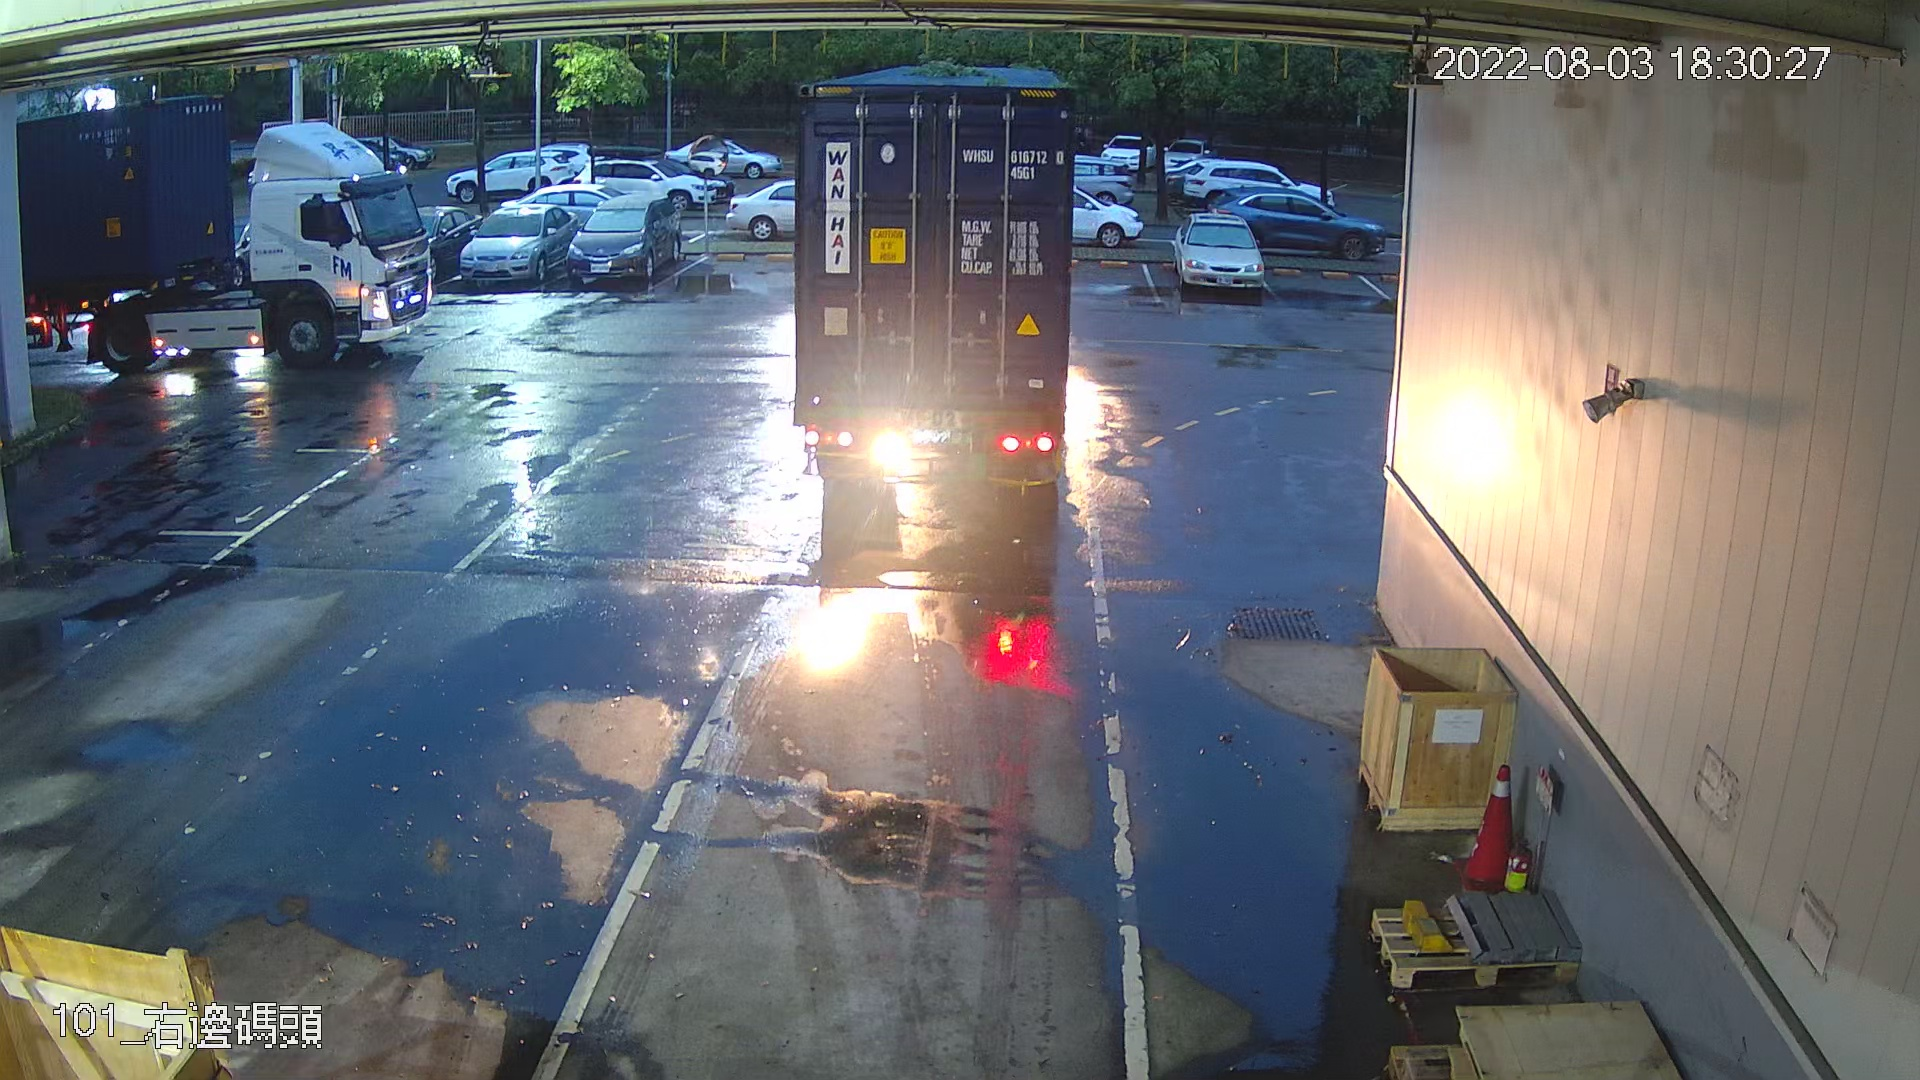container: (956, 142, 1069, 186)
